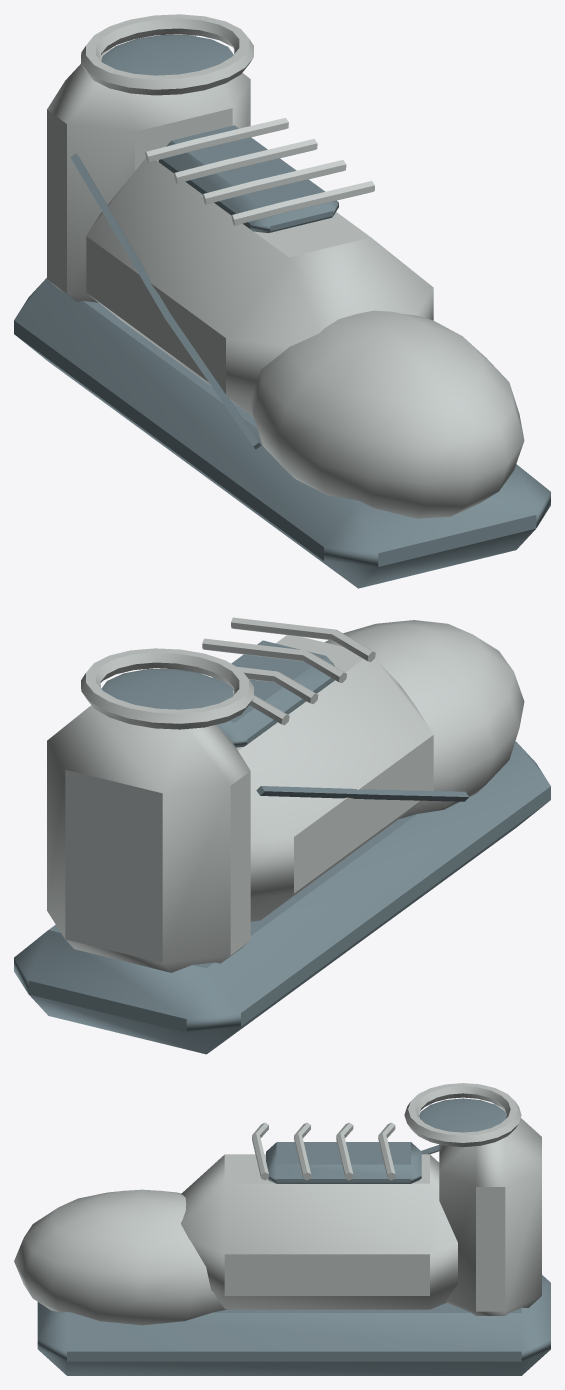
File: sneaker.glb
The picture shows the model from 3 angles, top to bottom: view 1: azimuth 30°, elevation 25°; view 2: azimuth 150°, elevation 25°; view 3: azimuth 270°, elevation 25°; orthographic projection. The views are drawn at different scales.
Parts seen in each view (by area): view 1: toe_box, midfoot_upper, sculpted_sole, heel_counter, padded_collar, tongue, collar_shadow, side_seam, shoelace.001, shoelace.002, shoelace.003, shoelace; view 2: heel_counter, sculpted_sole, midfoot_upper, toe_box, padded_collar, tongue, collar_shadow, side_seam, shoelace.003, shoelace.002, shoelace.001; view 3: midfoot_upper, sculpted_sole, toe_box, heel_counter, tongue, padded_collar, collar_shadow, shoelace, shoelace.001, shoelace.002, shoelace.003.
Boxes of the visible parts, left/top/right/bottom form: toe_box: left=250, top=310, right=524, bottom=518; midfoot_upper: left=86, top=158, right=433, bottom=417; sculpted_sole: left=14, top=278, right=550, bottom=588; heel_counter: left=47, top=34, right=250, bottom=302; padded_collar: left=81, top=14, right=253, bottom=95; tongue: left=158, top=125, right=338, bottom=233; collar_shadow: left=101, top=35, right=233, bottom=75; side_seam: left=70, top=153, right=261, bottom=449; shoelace.001: left=174, top=138, right=317, bottom=183; shoelace.002: left=202, top=160, right=346, bottom=204; shoelace.003: left=231, top=181, right=374, bottom=225; shoelace: left=145, top=117, right=288, bottom=162; heel_counter: left=47, top=705, right=250, bottom=972; sculpted_sole: left=14, top=741, right=550, bottom=1054; midfoot_upper: left=236, top=635, right=433, bottom=921; toe_box: left=325, top=620, right=524, bottom=818; padded_collar: left=81, top=648, right=253, bottom=729; tongue: left=212, top=640, right=334, bottom=747; collar_shadow: left=101, top=669, right=233, bottom=709; side_seam: left=256, top=786, right=468, bottom=801; shoelace.003: left=231, top=617, right=375, bottom=661; shoelace.002: left=202, top=638, right=346, bottom=682; shoelace.001: left=174, top=666, right=318, bottom=704; midfoot_upper: left=181, top=1154, right=457, bottom=1309; sculpted_sole: left=37, top=1275, right=550, bottom=1375; toe_box: left=14, top=1189, right=226, bottom=1325; heel_counter: left=439, top=1103, right=541, bottom=1315; tongue: left=266, top=1142, right=421, bottom=1183; padded_collar: left=404, top=1083, right=521, bottom=1147; collar_shadow: left=419, top=1098, right=506, bottom=1132; shoelace: left=378, top=1122, right=395, bottom=1180; shoelace.001: left=336, top=1122, right=353, bottom=1180; shoelace.002: left=294, top=1122, right=311, bottom=1180; shoelace.003: left=252, top=1122, right=268, bottom=1180.
Bounding box in the file's own units: 0.105 × 0.1435 × 0.293.
